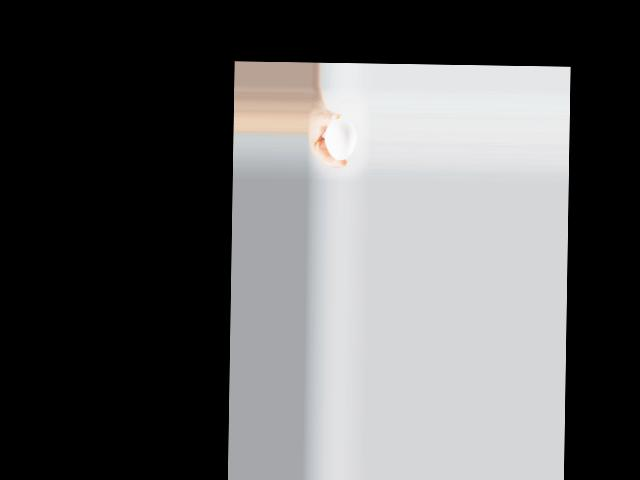egg: (325, 118, 355, 161)
